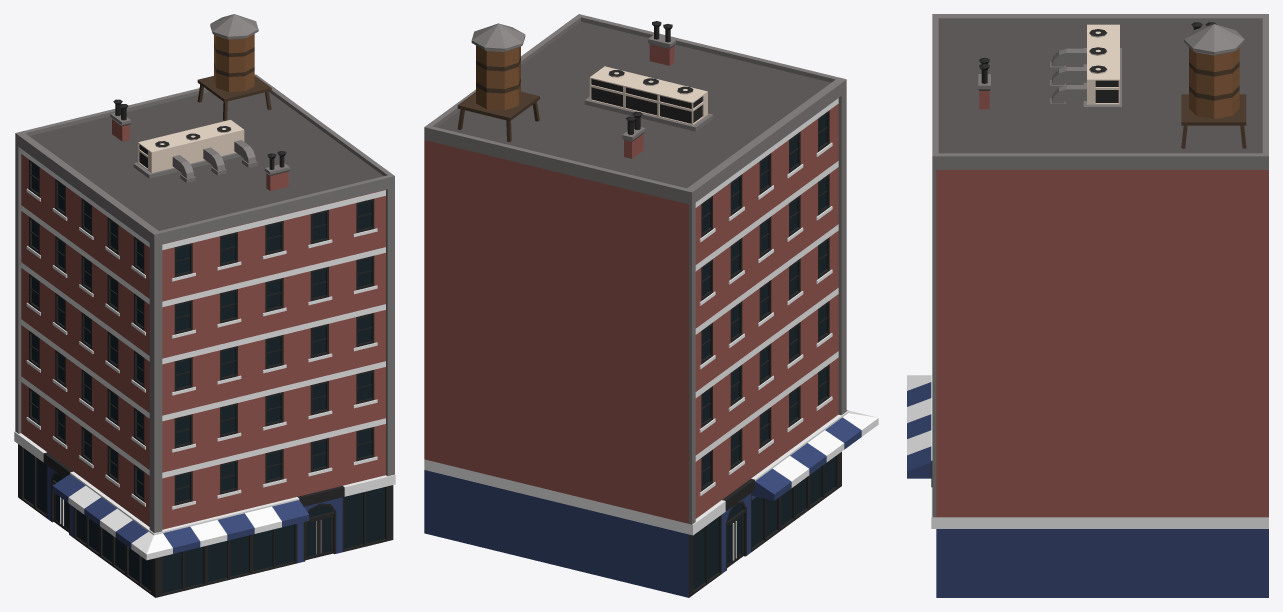
Rendered from building-block-5floor-corner.glb.
3 renders of one model, left to right at view 1: azimuth 30°, elevation 25°; view 2: azimuth 150°, elevation 25°; view 3: azimuth 270°, elevation 25°, orthographic. The views are drawn at different scales.
Parts seen in each view (by area): view 1: building-block-5floor-corner; view 2: building-block-5floor-corner; view 3: building-block-5floor-corner.
Boxes of the visible parts, x1,y1,x2,y2 form: building-block-5floor-corner: (14,14,395,597); building-block-5floor-corner: (424,14,878,597); building-block-5floor-corner: (907,14,1268,597).
Bounding box in the file's own units: 14.25 × 23.81 × 14.25.
Materials: 1 (1 with a texture image).
